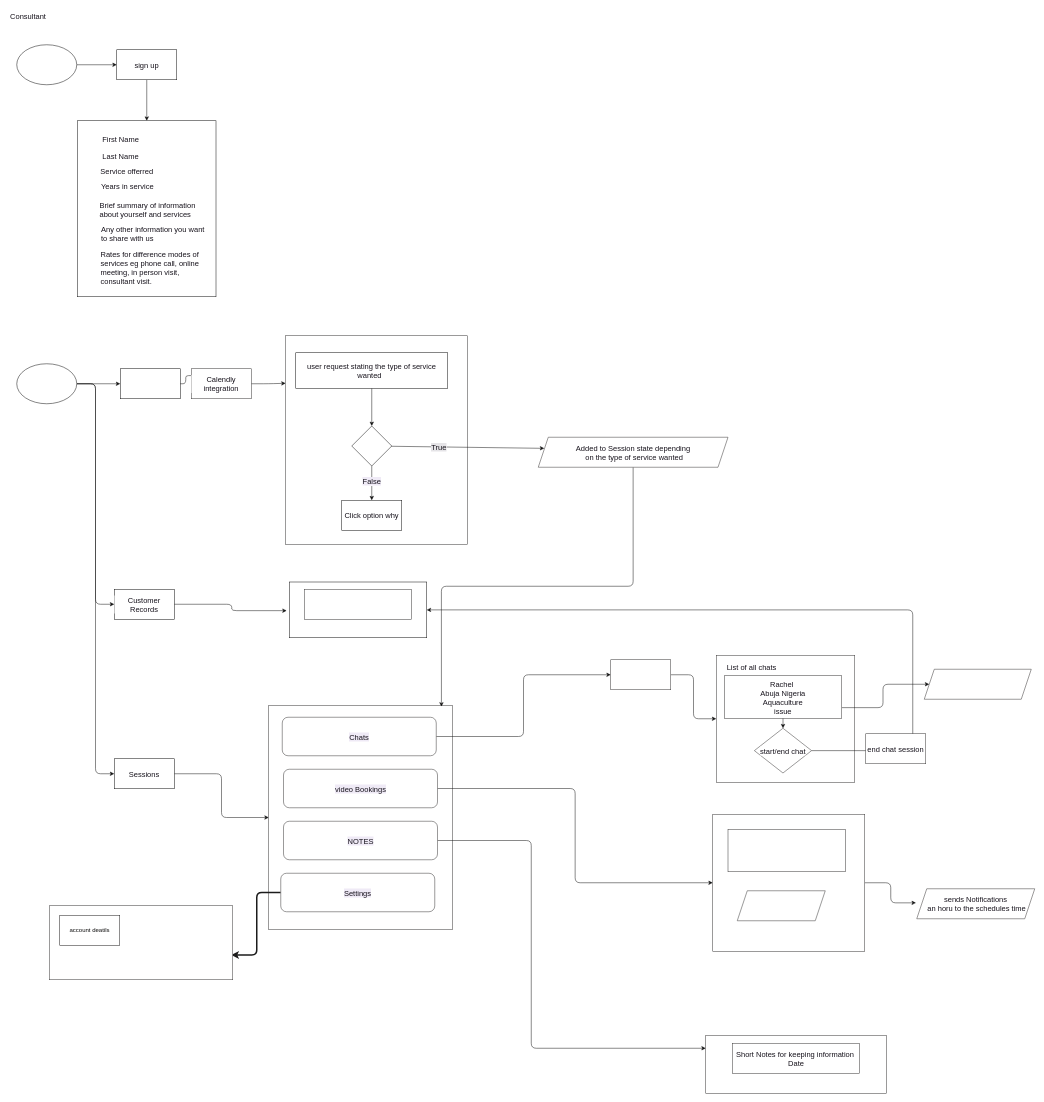
This 1044x1102 diagram has some shape labels left out. Here are the shapes that lost their labels. From the top down, the centre of each, then its label:
(x=46, y=64): new user
(x=46, y=383): LOGIN
(x=150, y=383): Requests
(x=371, y=446): Accept
(x=357, y=604): History of past session with user name and date and conclusion
(x=640, y=674): integration with a chat api or package
(x=977, y=684): sends Notifications when there a response
(x=787, y=850): vidoe call link Date /time Category/farming type issue
(x=781, y=905): Goto google meet
